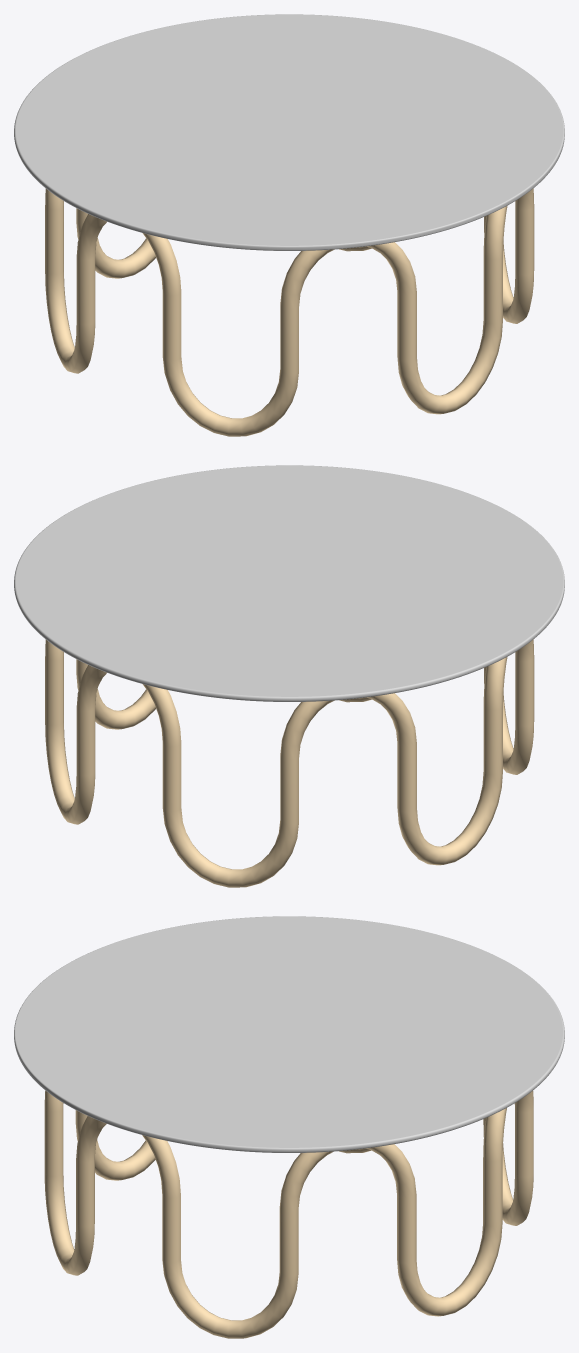
File: COCKTAIL.gltf
The picture shows the model from 3 angles, top to bottom: view 1: azimuth 30°, elevation 25°; view 2: azimuth 150°, elevation 25°; view 3: azimuth 270°, elevation 25°; orthographic projection.
Parts seen in each view (by area): view 1: ELECTRUM_SET_by_Jonathan_Adler_10, ELECTRUM_SET_by_Jonathan_Adler_11; view 2: ELECTRUM_SET_by_Jonathan_Adler_10, ELECTRUM_SET_by_Jonathan_Adler_11; view 3: ELECTRUM_SET_by_Jonathan_Adler_10, ELECTRUM_SET_by_Jonathan_Adler_11.
Part boxes in pixels (x1,y1,x2,y2): ELECTRUM_SET_by_Jonathan_Adler_10: [14, 14, 564, 250]; ELECTRUM_SET_by_Jonathan_Adler_11: [45, 188, 534, 436]; ELECTRUM_SET_by_Jonathan_Adler_10: [14, 465, 564, 701]; ELECTRUM_SET_by_Jonathan_Adler_11: [45, 639, 534, 887]; ELECTRUM_SET_by_Jonathan_Adler_10: [14, 916, 564, 1152]; ELECTRUM_SET_by_Jonathan_Adler_11: [44, 1090, 533, 1338].
Bounding box in the file's own units: 1.2 × 0.514 × 1.2.
